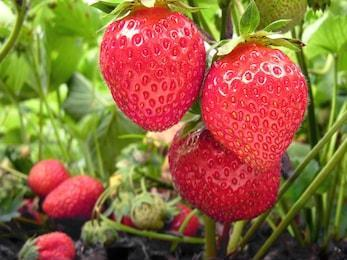Fresa: (200, 32, 314, 173), (95, 4, 207, 134), (167, 116, 283, 228), (17, 229, 77, 260)
